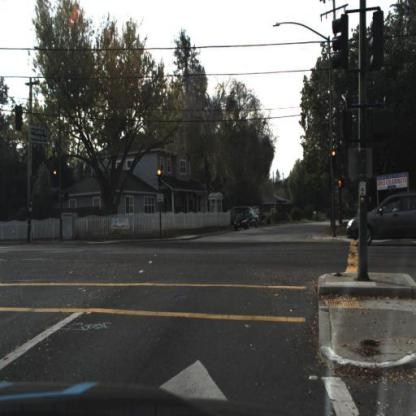car: (346, 189, 416, 254), (235, 211, 259, 232)
trafficLight: (158, 170, 163, 186)
trafficLight-Red: (331, 148, 337, 171), (54, 171, 58, 181)
